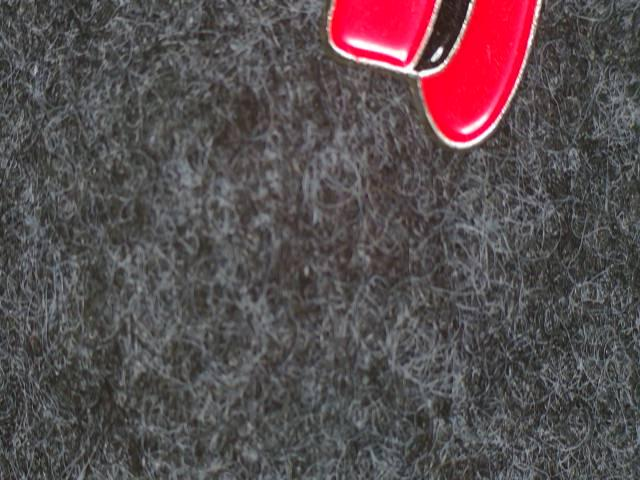Red-Hat: (316, 0, 565, 178)
